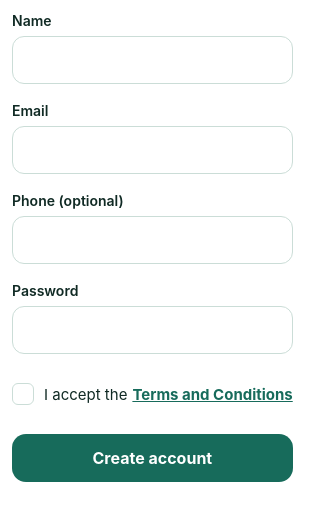
Test: SignUpForm › requires Terms and Conditions acceptance
Type "Alex Owner" into the field named "Name" at (152, 60), box [12,36,293,84]
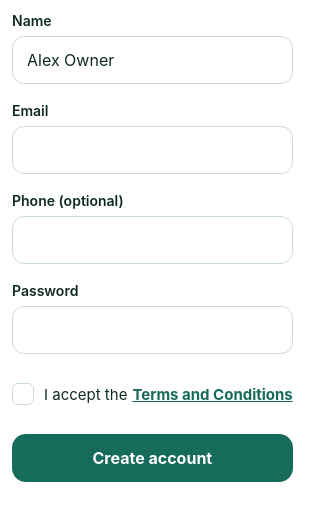
Type "alex@example.com" into the field named "Email" at (152, 150), box [12,126,293,174]
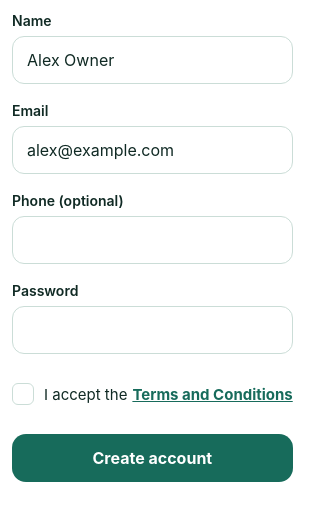
Type "secure-password" into the password field named "Password" at (152, 330), box [12,306,293,354]
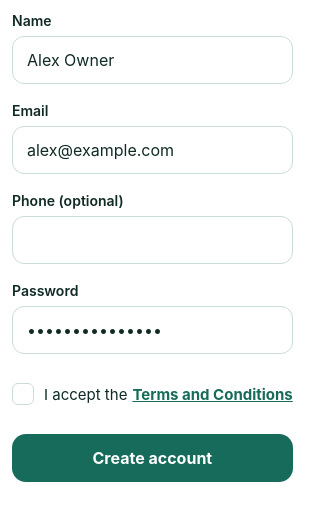
Click the button "Create account" at (152, 458), box [12,434,293,482]
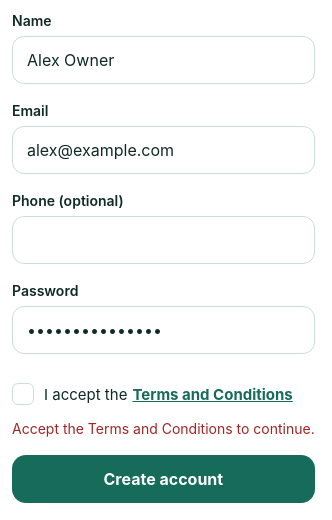
Check: the text "Accept the Terms and Conditions to continue." is shown, box [12,420,315,437]
